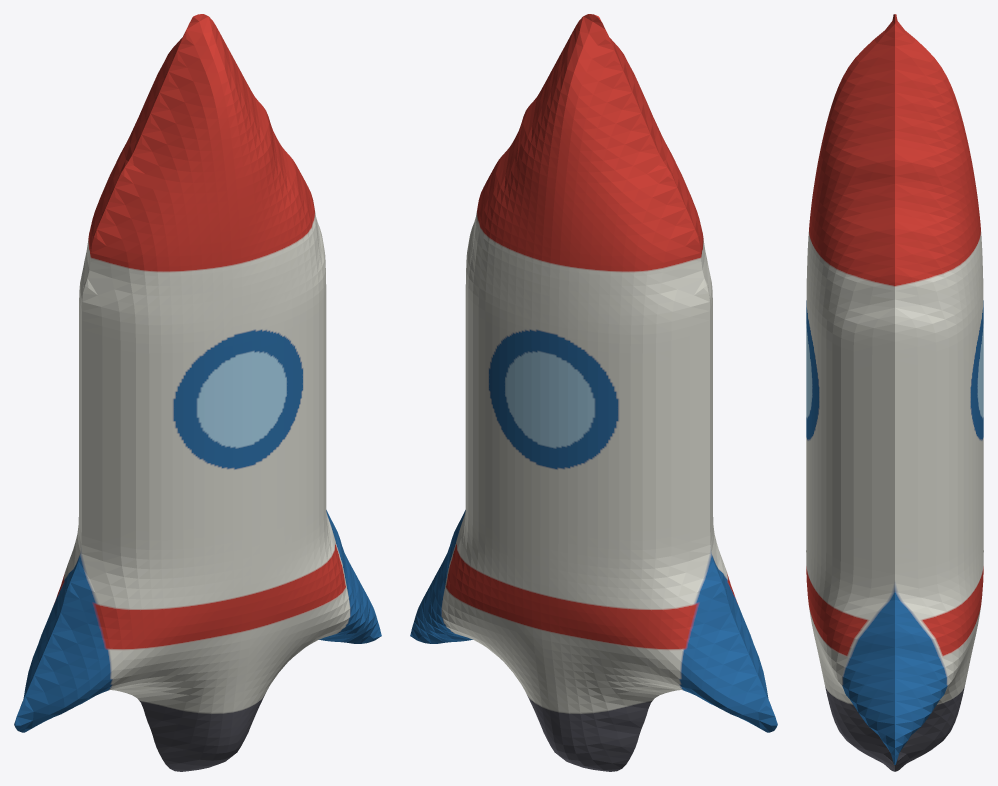
File: rocket.v1-original.glb
The picture shows the model from 3 angles, left to right: view 1: azimuth 30°, elevation 25°; view 2: azimuth 150°, elevation 25°; view 3: azimuth 270°, elevation 25°; orthographic projection.
Visible parts, largest first — view 1: world; view 2: world; view 3: world.
Boxes of the visible parts, <box> form: world: <box>14,14,381,771</box>; world: <box>410,14,777,771</box>; world: <box>806,14,983,771</box>.
Bounding box in the file's own units: 0.1017 × 0.2 × 0.043.
1 material, 1 textured.
